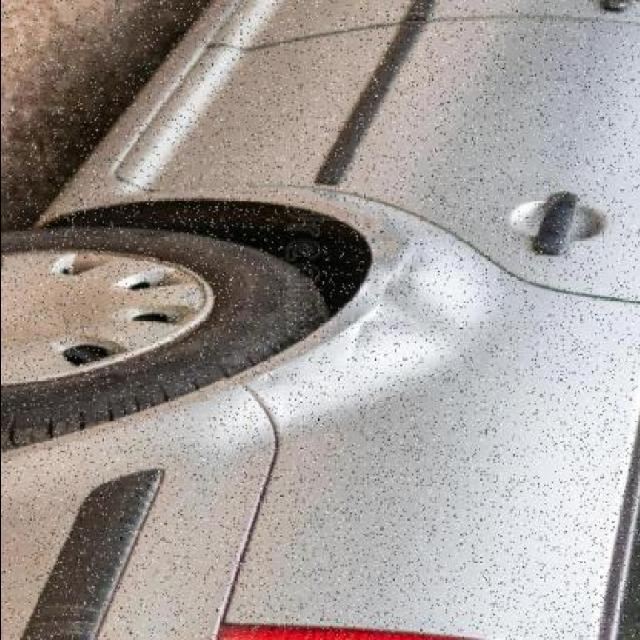quaterpanel-dent: (209, 226, 613, 640)
